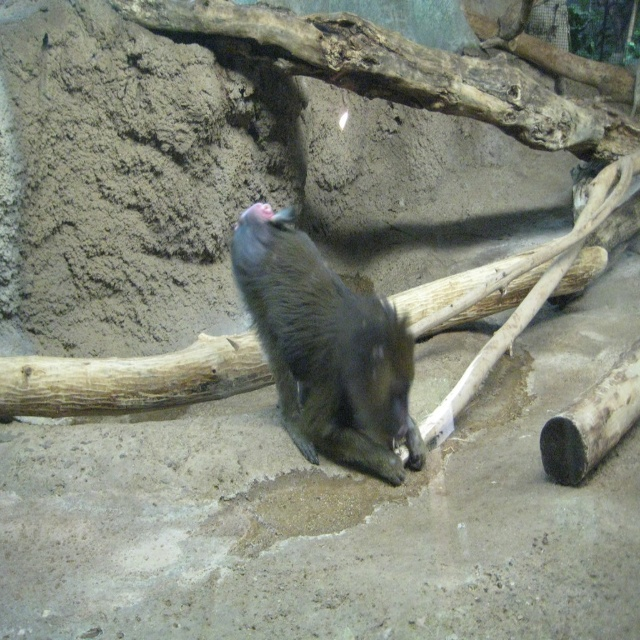Monkey: (218, 185, 422, 505)
